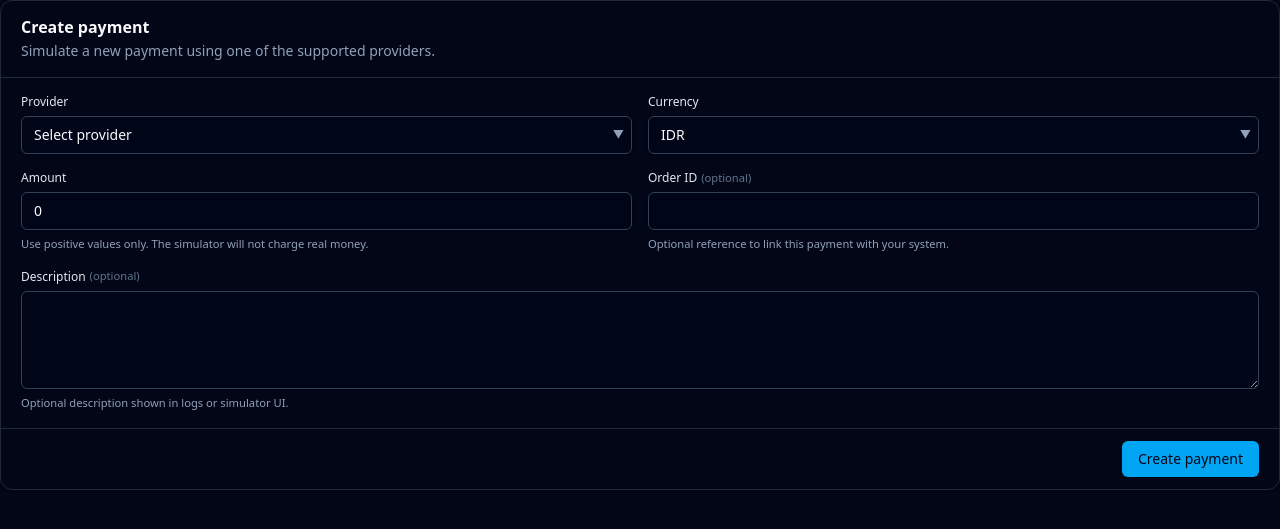
Test: CreatePaymentForm › menampilkan error validasi ketika field wajib kosong dan tidak memanggil createPayment
The width and height of the screenshot is (1280, 529).
Click the button "Create payment" at x=1190, y=459, box [1122,441,1259,477]
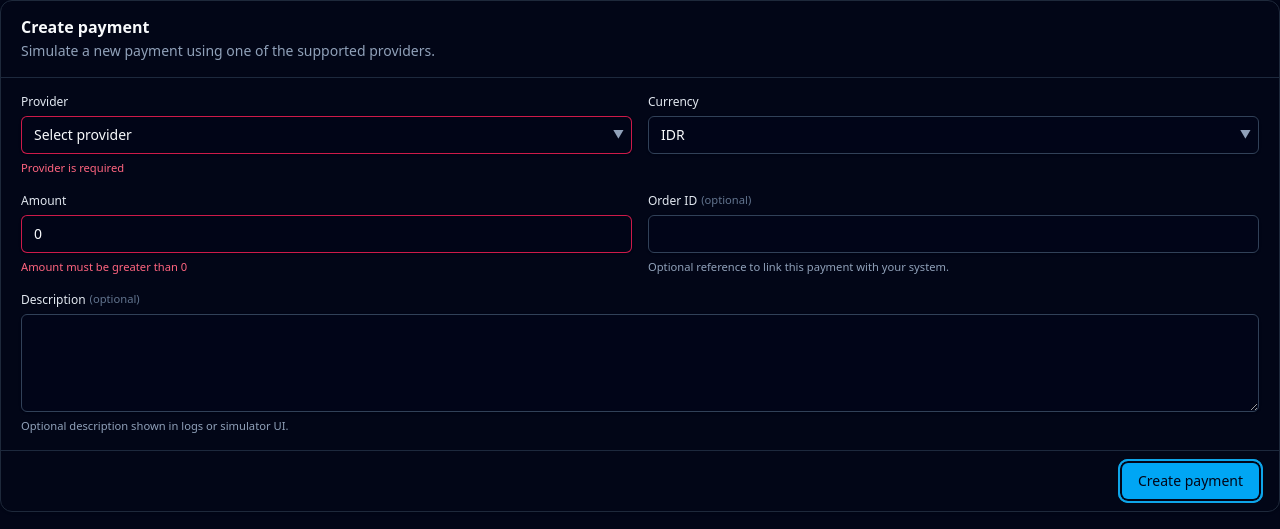
Now the text "Provider is required" is shown, box [21,160,124,175]
Now the text "Amount must be greater than 0" is shown, box [21,259,187,274]
